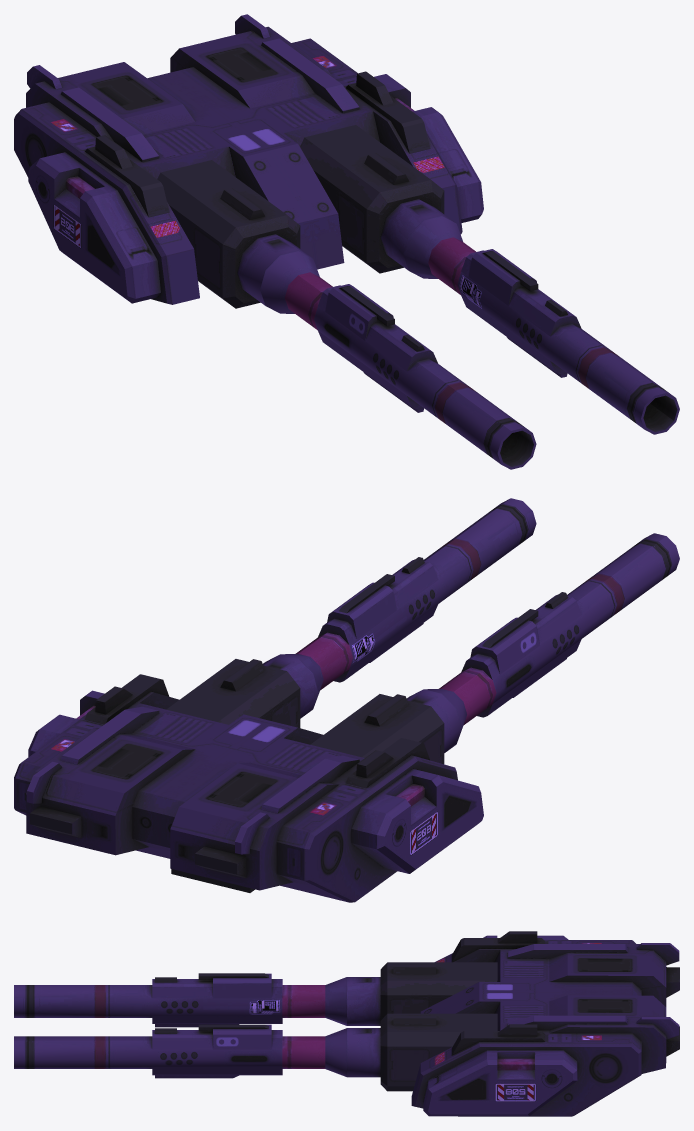
The model's file is gunK.fbx.
The picture shows the model from 3 angles, top to bottom: view 1: azimuth 30°, elevation 25°; view 2: azimuth 150°, elevation 25°; view 3: azimuth 270°, elevation 25°; orthographic projection. The views are drawn at different scales.
Visible parts, largest first — view 1: Haevy_Laser; view 2: Haevy_Laser; view 3: Haevy_Laser.
Part boxes in pixels (x1=…): Haevy_Laser: x1=14, y1=14, x2=679, y2=469; Haevy_Laser: x1=14, y1=498, x2=679, y2=902; Haevy_Laser: x1=14, y1=931, x2=679, y2=1116.
Size of the model in its own units: 22077 by 8022 by 48826.
Materials: 1 (1 with a texture image).
